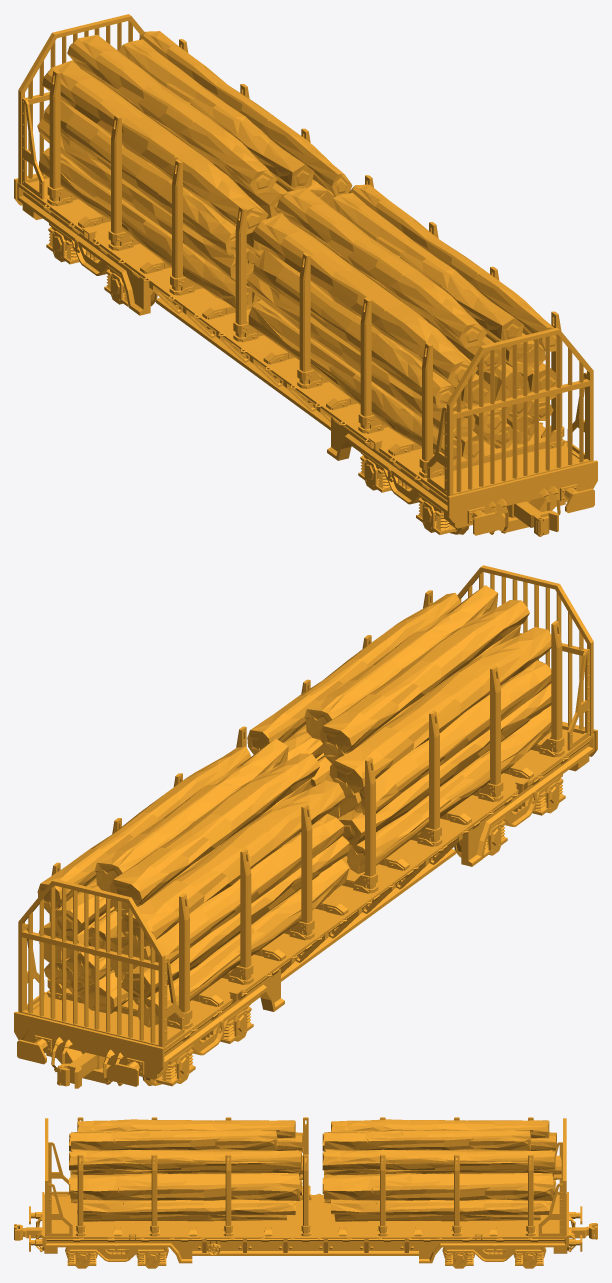
The model's file is SM_Train_Wagon_Logging.fbx.
3 views of the same model, one above another, from view 1: azimuth 30°, elevation 25°; view 2: azimuth 150°, elevation 25°; view 3: azimuth 270°, elevation 25° (orthographic). The views are drawn at different scales.
Parts seen in each view (by area): view 1: SM_Train_Wagon_Logging_Base, SM_Train_Wagon_Logging_Base_Loggs_F, SM_Train_Wagon_Logging_Base_Loggs_B, SM_Train_Wagon_Logging_Base_Chassis_F, SM_Train_Wagon_Logging_Base_Chassis_B, SM_Train_Wagon_Logging_Base_Joint_F; view 2: SM_Train_Wagon_Logging_Base, SM_Train_Wagon_Logging_Base_Loggs_B, SM_Train_Wagon_Logging_Base_Loggs_F, SM_Train_Wagon_Logging_Base_Chassis_B, SM_Train_Wagon_Logging_Base_Chassis_F, SM_Train_Wagon_Logging_Base_Joint_B; view 3: SM_Train_Wagon_Logging_Base, SM_Train_Wagon_Logging_Base_Loggs_B, SM_Train_Wagon_Logging_Base_Loggs_F, SM_Train_Wagon_Logging_Base_Chassis_F, SM_Train_Wagon_Logging_Base_Chassis_B, SM_Train_Wagon_Logging_Base_Joint_B, SM_Train_Wagon_Logging_Base_Joint_F.
Boxes of the visible parts, x1,y1,x2,y2 form: SM_Train_Wagon_Logging_Base: (14,14,597,535); SM_Train_Wagon_Logging_Base_Loggs_F: (247,184,562,465); SM_Train_Wagon_Logging_Base_Loggs_B: (37,31,352,309); SM_Train_Wagon_Logging_Base_Chassis_F: (358,451,565,534); SM_Train_Wagon_Logging_Base_Chassis_B: (46,223,128,306); SM_Train_Wagon_Logging_Base_Joint_F: (504,501,558,536); SM_Train_Wagon_Logging_Base: (14,565,597,1086); SM_Train_Wagon_Logging_Base_Loggs_B: (37,738,349,1027); SM_Train_Wagon_Logging_Base_Loggs_F: (247,585,551,873); SM_Train_Wagon_Logging_Base_Chassis_B: (46,1003,253,1086); SM_Train_Wagon_Logging_Base_Chassis_F: (483,774,565,857); SM_Train_Wagon_Logging_Base_Joint_B: (57,1052,106,1088); SM_Train_Wagon_Logging_Base: (29,1117,582,1263); SM_Train_Wagon_Logging_Base_Loggs_B: (322,1119,561,1221); SM_Train_Wagon_Logging_Base_Loggs_F: (69,1119,306,1221); SM_Train_Wagon_Logging_Base_Chassis_F: (67,1247,166,1268); SM_Train_Wagon_Logging_Base_Chassis_B: (444,1247,544,1268); SM_Train_Wagon_Logging_Base_Joint_B: (569,1223,597,1239); SM_Train_Wagon_Logging_Base_Joint_F: (14,1224,42,1240).
Bounding box in the file's own units: 3.08 × 4.05 × 16.69.
